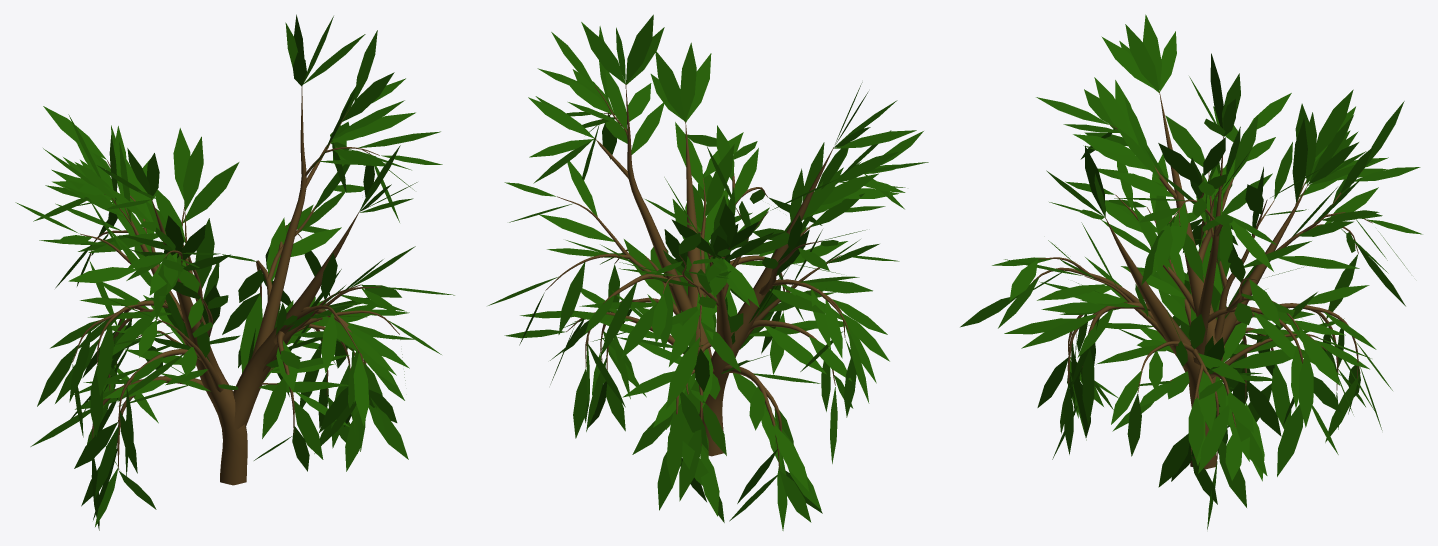
Rendered from bushtaketwo.fbx.
The picture shows the model from 3 angles, left to right: view 1: azimuth 30°, elevation 25°; view 2: azimuth 150°, elevation 25°; view 3: azimuth 270°, elevation 25°; orthographic projection. The views are drawn at different scales.
Parts seen in each view (by area): view 1: leaves, tree; view 2: leaves, tree; view 3: leaves, tree.
Boxes of the visible parts, bbox=[...] form: leaves: bbox=[15, 14, 454, 530]; tree: bbox=[72, 87, 399, 485]; leaves: bbox=[488, 14, 928, 530]; tree: bbox=[545, 83, 849, 470]; leaves: bbox=[960, 14, 1422, 529]; tree: bbox=[1032, 91, 1372, 469].
Size of the model in its own units: 211 by 255 by 224.
